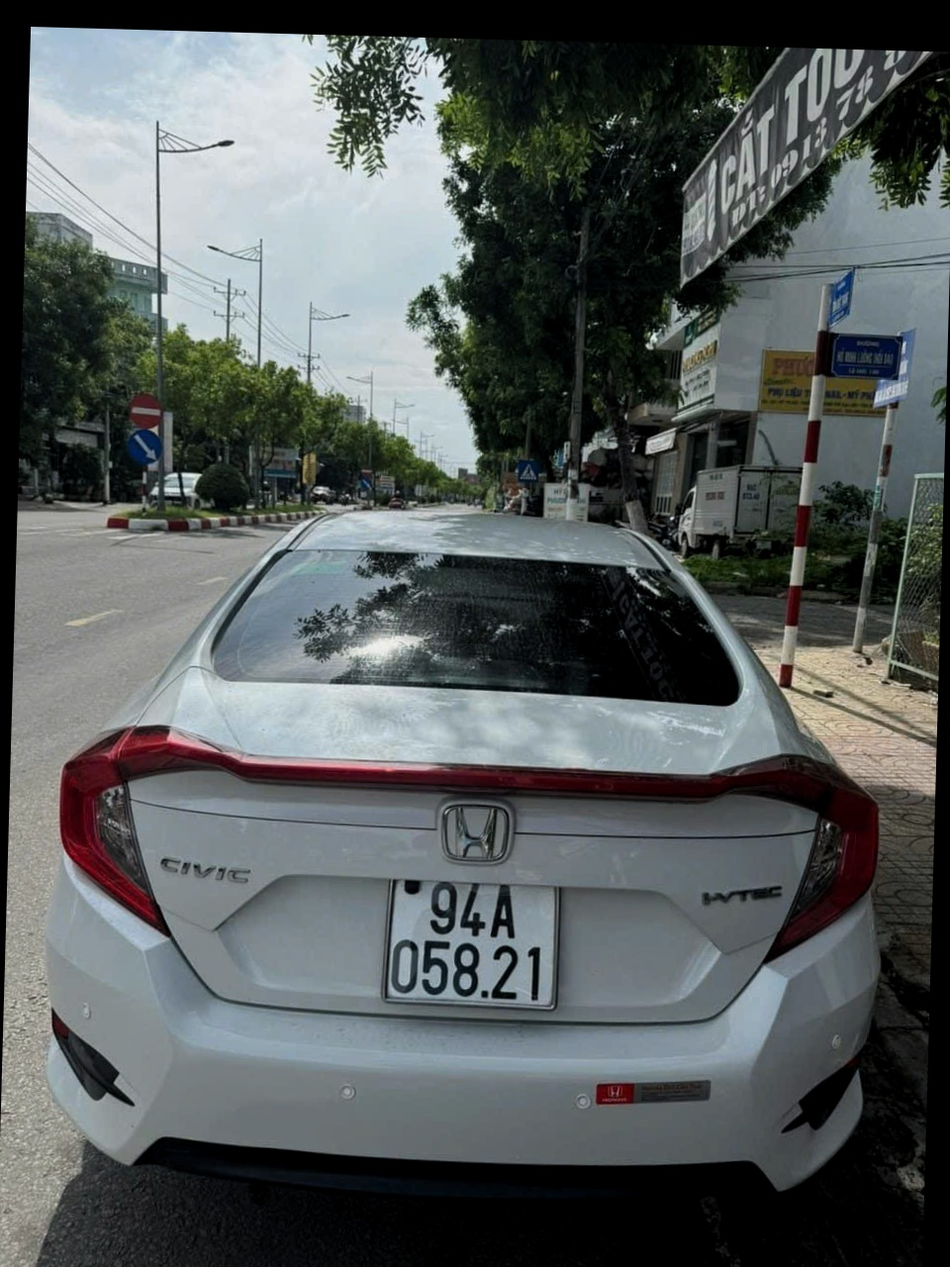Bien-so: (386, 857, 582, 1010)
